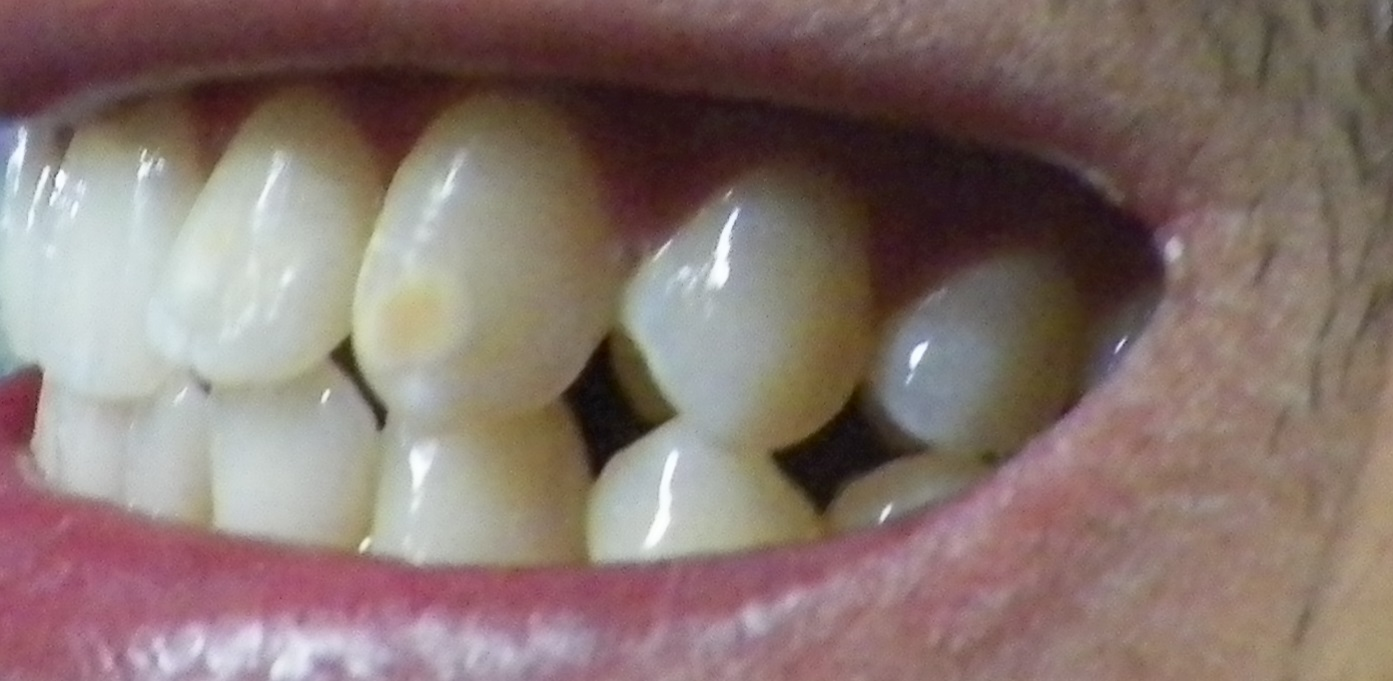boca: (12, 111, 1041, 569)
